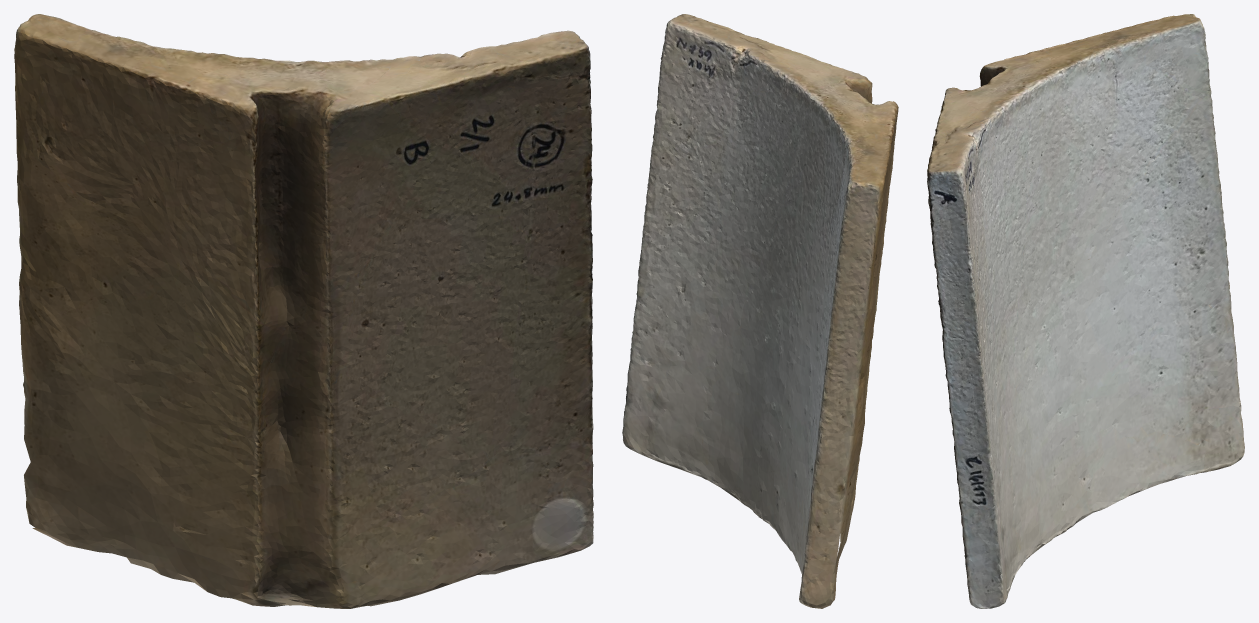
File: Pixel 24.glb
The picture shows the model from 3 angles, left to right: view 1: azimuth 30°, elevation 25°; view 2: azimuth 150°, elevation 25°; view 3: azimuth 270°, elevation 25°; orthographic projection. The views are drawn at different scales.
Bounding box in the file's own units: 0.2221 × 0.267 × 0.171.
1 material, 1 textured.
